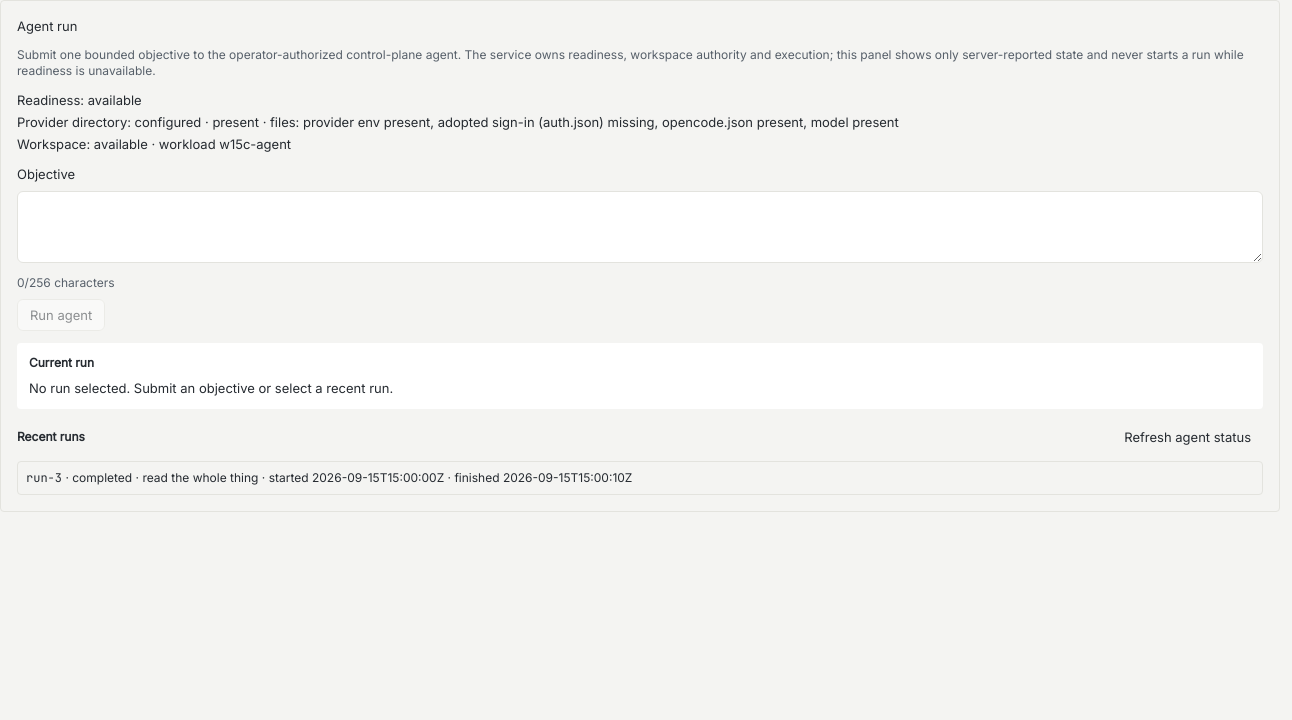
labels truncated output honestly and caps the rendered block
The width and height of the screenshot is (1292, 720).
Click the button "run-3": (44, 478) [17, 461, 1263, 495]
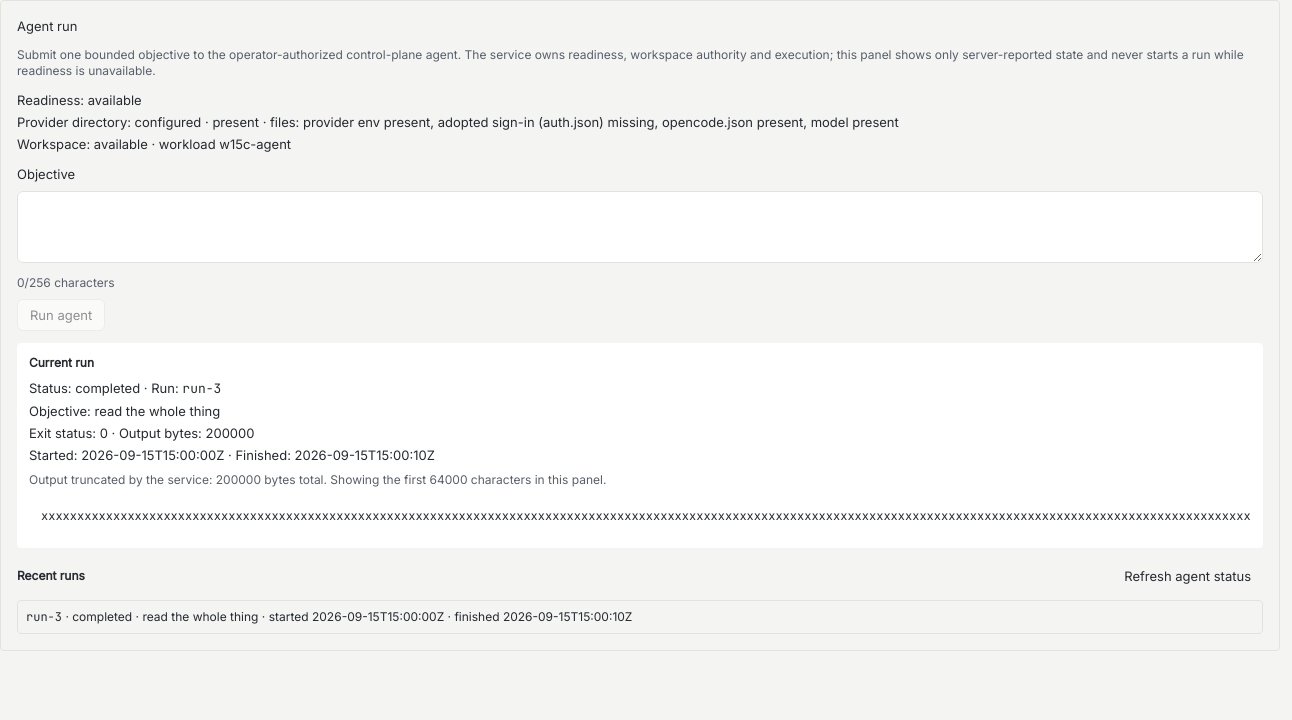
Expected: the text "Output truncated by the service: 200000 bytes total." is shown, [29, 472, 327, 487]
